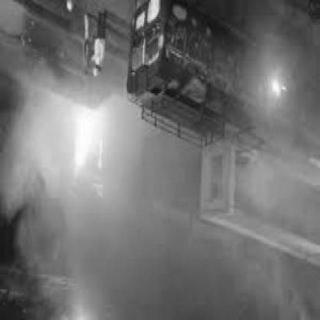Fire: (61, 102, 117, 192), (256, 63, 296, 119)
Smoke: (48, 210, 306, 316)
